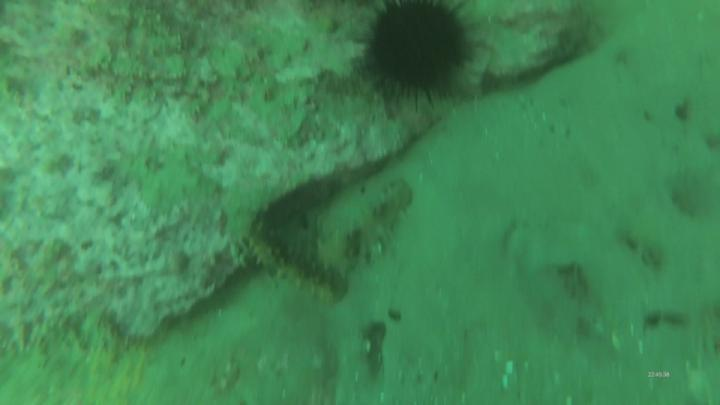echinus: (357, 1, 480, 111)
holothurian: (325, 174, 417, 278), (244, 228, 347, 312)
